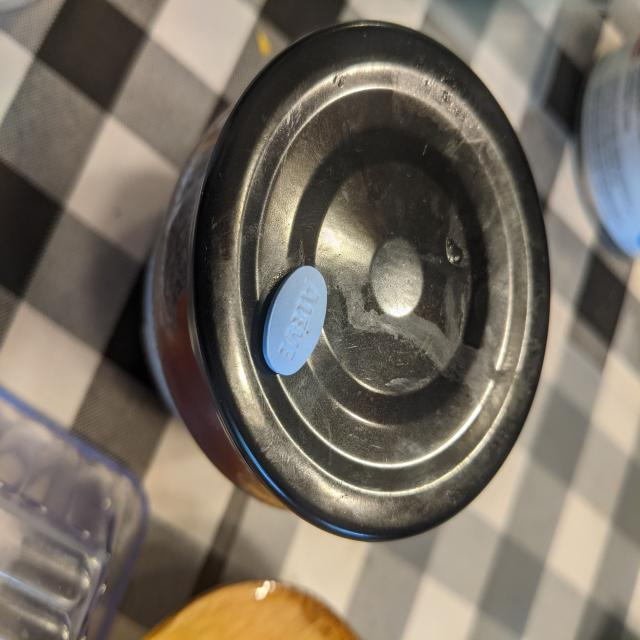non-organic waste: (261, 264, 328, 377)
